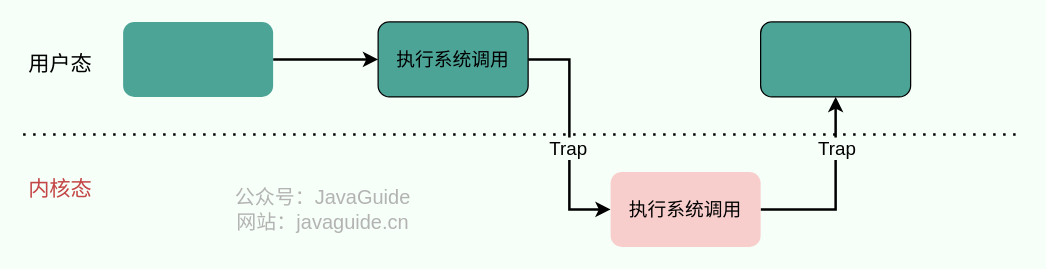
Some shapes in this 1046 by 269 pixel diagram are drawn without their labels. Here are the shapes that lost their labels. From the top down, the centre of each, then its label:
point (197, 58): 用户程序
point (835, 59): 系统调用返回
